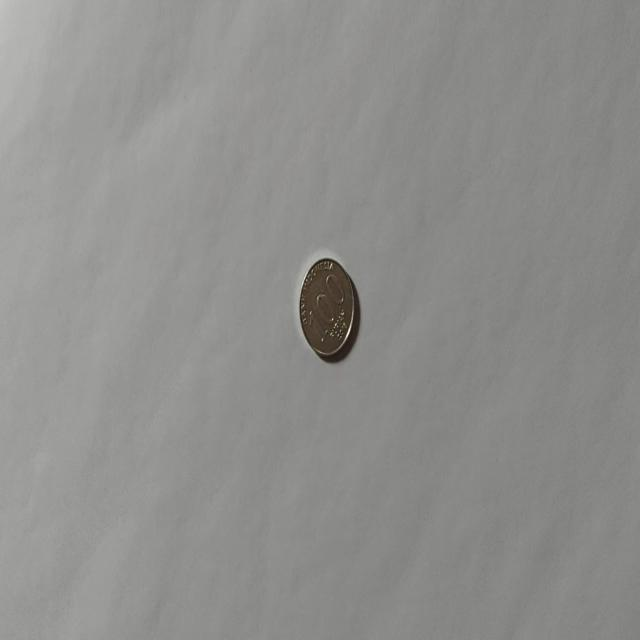seratus rupiah: (298, 256, 354, 359)
